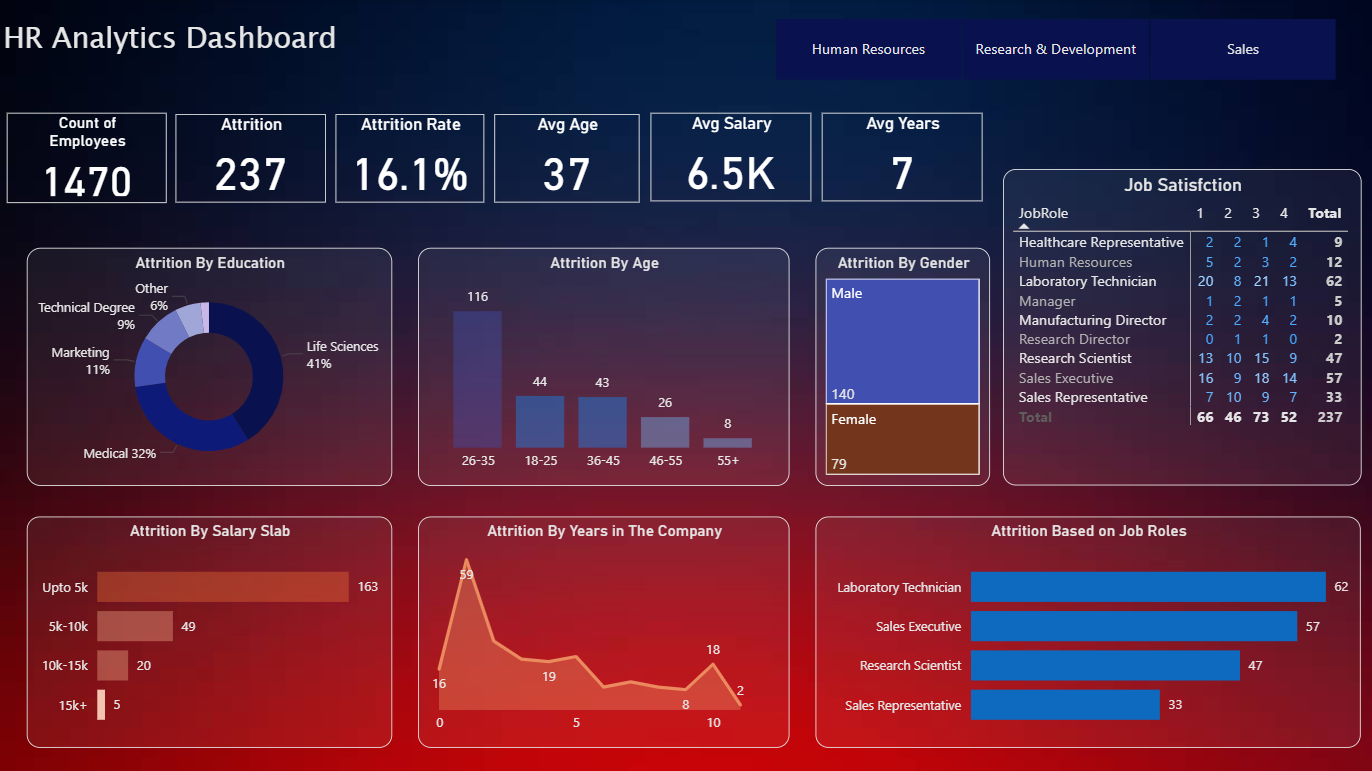

What the dashboard file says about the page in this screenshot:
{"tool":"powerbi","page":{"name":"Page 1","canvas":[1280,720],"ordinal":0},"visuals":[{"type":"card","title":"Count of Employees","fields":{"Values":["CountNonNull(HR_Analytics.EmpID)"]},"box":[8.1,105.8,148.8,83.7],"z":0},{"type":"card","title":"Attrition","fields":{"Values":["Sum(HR_Analytics.AttritionCount)"]},"box":[165.1,106.5,140,82.6],"z":1000},{"type":"card","title":"Attrition Rate","fields":{"Values":["HR_Analytics.AttritionRate"]},"box":[313.5,106.5,138.8,82.6],"z":2000},{"type":"card","title":"Avg Age","fields":{"Values":["Avg(HR_Analytics.Age)"]},"box":[461.8,106.5,135.2,82.6],"z":3000},{"type":"card","title":"Avg Salary","fields":{"Values":["Avg(HR_Analytics.MonthlyIncome)"]},"box":[606.6,105.3,149.6,82.6],"z":4000},{"type":"card","title":"Avg Years","fields":{"Values":["Avg(HR_Analytics.YearsAtCompany)"]},"box":[765.8,105.3,149.6,82.6],"z":5000},{"type":"donutChart","title":"Attrition By Education ","fields":{"Category":["HR_Analytics.EducationField"],"Y":["CountNonNull(HR_Analytics.Attrition)"]},"box":[26.3,230.9,339.8,221.4],"z":6000},{"type":"columnChart","title":"Attrition By Age","fields":{"Category":["HR_Analytics.AgeGroup"],"Y":["Sum(HR_Analytics.AttritionCount)"]},"box":[391.3,230.9,345.8,221.4],"z":7000},{"type":"pivotTable","title":"Job Satisfction","fields":{"Rows":["HR_Analytics.JobRole"],"Columns":["HR_Analytics.JobSatisfaction"],"Values":["Sum(HR_Analytics.AttritionCount)"]},"box":[934.5,157.9,333.8,294.3],"z":8000},{"type":"barChart","title":"Attrition By Salary Slab","fields":{"Category":["HR_Analytics.SalarySlab"],"Y":["Sum(HR_Analytics.AttritionCount)"]},"box":[26.3,481,339.8,215.4],"z":9000},{"type":"barChart","title":"Attrition Based on Job Roles","fields":{"Category":["HR_Analytics.JobRole"],"Y":["Sum(HR_Analytics.AttritionCount)"]},"box":[761,481,507.3,215.4],"z":10000},{"type":"areaChart","title":"Attrition By Years in The Company","fields":{"Category":["HR_Analytics.YearsAtCompany"],"Y":["Sum(HR_Analytics.AttritionCount)"]},"box":[391.3,481,345.8,215.4],"z":11000},{"type":"treemap","title":"Attrition By Gender","fields":{"Group":["HR_Analytics.Gender"],"Values":["Sum(HR_Analytics.AttritionCount)"]},"box":[761,230.9,162.7,221.4],"z":12000},{"type":"slicer","fields":{"Values":["HR_Analytics.Department"]},"box":[697.6,12,570.7,70.6],"z":13000},{"type":"textbox","box":[0,11.6,401.2,70.9],"z":14000}]}

Visuals, with their boxes in screenshot pixels (x1, y1, x2, y2), scaled from the page's 1280x720 canvas onto the 1372x771 screenshot:
"Count of Employees" card: <bbox>9, 113, 168, 203</bbox>
"Attrition" card: <bbox>177, 114, 327, 202</bbox>
"Attrition Rate" card: <bbox>336, 114, 485, 202</bbox>
"Avg Age" card: <bbox>495, 114, 640, 202</bbox>
"Avg Salary" card: <bbox>650, 113, 811, 201</bbox>
"Avg Years" card: <bbox>821, 113, 981, 201</bbox>
"Attrition By Education " donutChart: <bbox>28, 247, 392, 484</bbox>
"Attrition By Age" columnChart: <bbox>419, 247, 790, 484</bbox>
"Job Satisfction" pivotTable: <bbox>1002, 169, 1359, 484</bbox>
"Attrition By Salary Slab" barChart: <bbox>28, 515, 392, 746</bbox>
"Attrition Based on Job Roles" barChart: <bbox>816, 515, 1359, 746</bbox>
"Attrition By Years in The Company" areaChart: <bbox>419, 515, 790, 746</bbox>
"Attrition By Gender" treemap: <bbox>816, 247, 990, 484</bbox>
slicer - HR_Analytics.Department: <bbox>748, 13, 1359, 88</bbox>
textbox: <bbox>0, 12, 430, 88</bbox>
